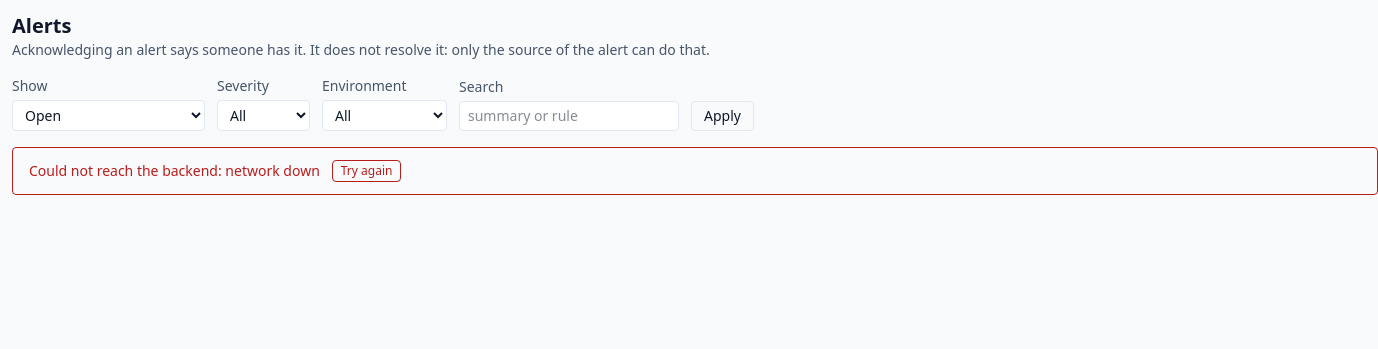
AlertList › reports a backend that cannot be reached, with a way to try again
Expected: the message shows "Could not reach the backend", [29,161,320,180]
Click the button "Try again": (367, 171) [332,160,401,182]
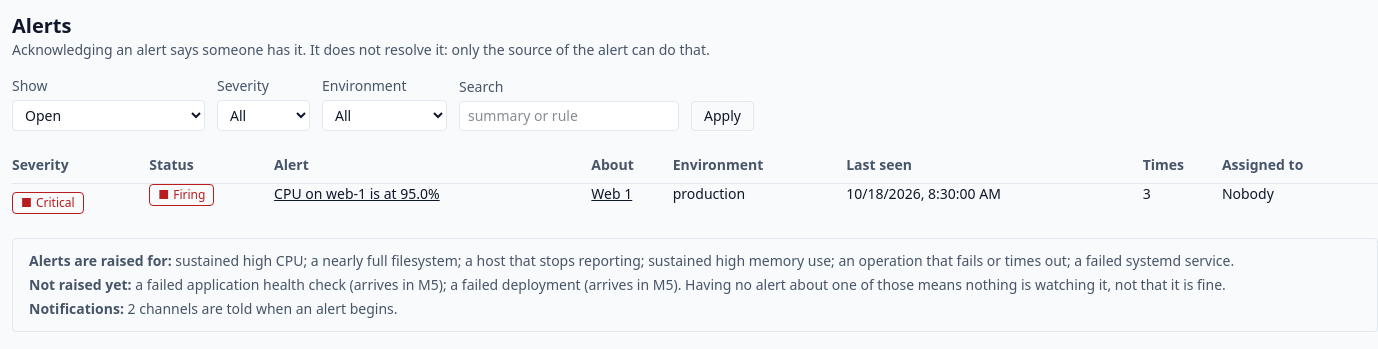
Result: the link "CPU on web-1 is at 95.0%" is shown at [274,184,440,203]
